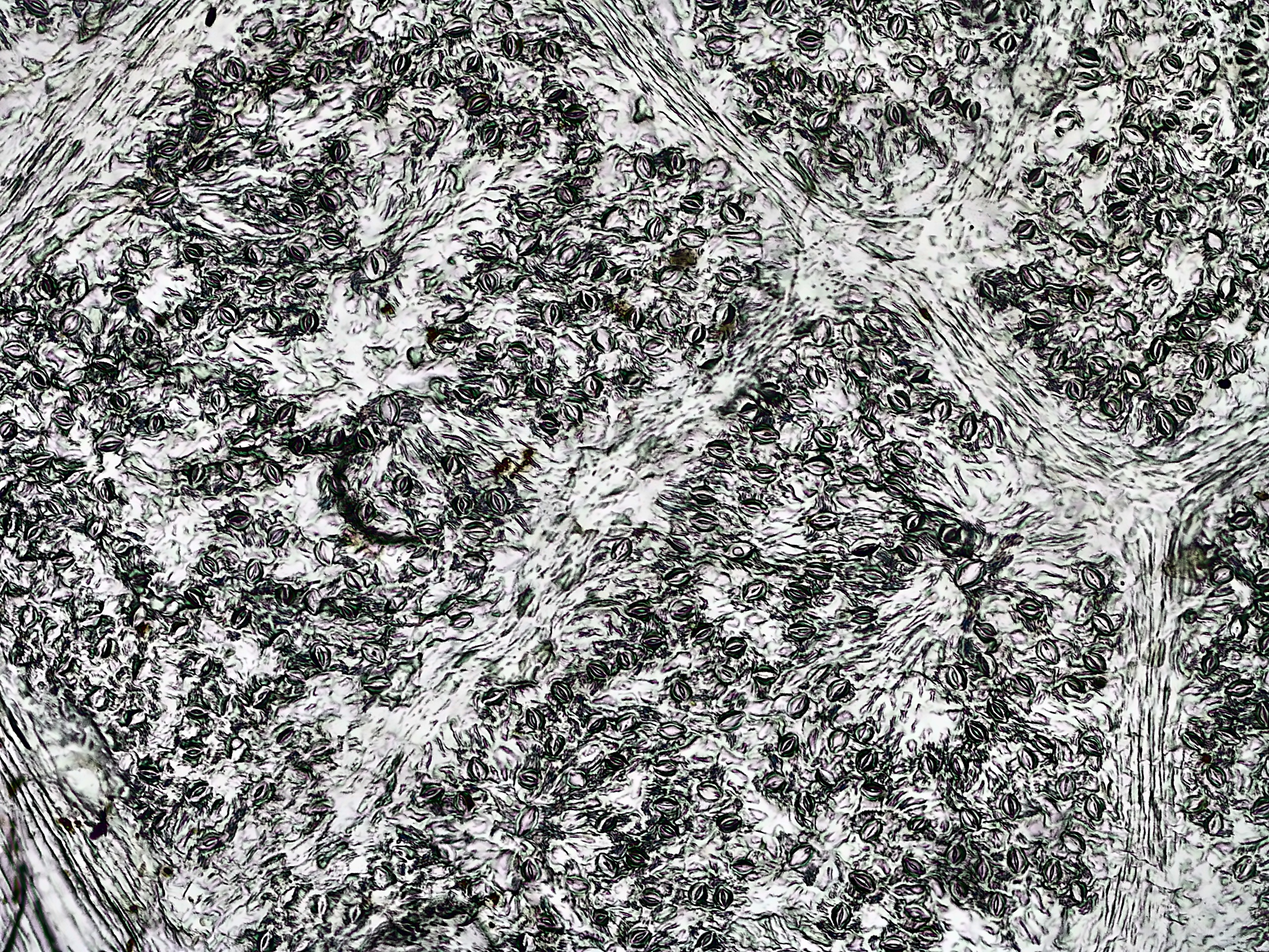stomata: (934, 524, 972, 550), (144, 181, 180, 207), (954, 560, 986, 588), (619, 305, 650, 333), (1224, 342, 1249, 375), (362, 249, 388, 280), (94, 429, 125, 455), (721, 196, 745, 228), (852, 63, 875, 96), (1019, 263, 1046, 291), (1081, 564, 1108, 592), (552, 181, 581, 207), (688, 481, 719, 505), (66, 272, 89, 304), (1128, 74, 1151, 106), (94, 634, 120, 662), (715, 262, 743, 288), (359, 639, 388, 664), (1112, 307, 1137, 336), (379, 391, 400, 425), (310, 641, 333, 672), (796, 30, 827, 53), (1037, 634, 1060, 665), (559, 239, 581, 271), (361, 672, 393, 694), (1070, 68, 1102, 90), (517, 806, 539, 838), (363, 85, 390, 111), (590, 326, 616, 353), (884, 13, 910, 40), (679, 225, 707, 250), (657, 264, 685, 289), (706, 435, 734, 460), (748, 423, 781, 444), (802, 454, 835, 475), (854, 565, 887, 586), (801, 560, 837, 579), (491, 369, 513, 400), (1016, 599, 1047, 621), (15, 602, 41, 628), (898, 508, 924, 534), (633, 153, 658, 180), (441, 16, 473, 37), (172, 304, 200, 328), (1089, 139, 1113, 167), (737, 496, 769, 517), (541, 299, 563, 329), (1119, 123, 1149, 145), (806, 360, 828, 390), (750, 461, 780, 483), (623, 366, 649, 391), (168, 620, 194, 645), (955, 41, 981, 66), (1107, 197, 1133, 222), (1143, 270, 1169, 295), (847, 357, 872, 383), (957, 805, 982, 831), (225, 507, 252, 531), (1119, 365, 1146, 389), (1233, 854, 1257, 881), (252, 134, 280, 157), (322, 472, 350, 495), (1070, 231, 1098, 254), (727, 538, 755, 561), (1000, 791, 1023, 819), (414, 114, 436, 143), (143, 408, 165, 437), (899, 55, 928, 77), (817, 69, 839, 98), (885, 99, 907, 128), (827, 144, 856, 166), (1055, 772, 1077, 801), (10, 304, 40, 325), (716, 709, 746, 730), (244, 188, 269, 213), (712, 302, 737, 327), (223, 55, 247, 81), (184, 779, 210, 803), (994, 30, 1018, 56), (898, 540, 922, 566), (1061, 674, 1087, 698), (988, 697, 1011, 724), (517, 202, 548, 222), (1024, 308, 1055, 328), (849, 536, 880, 556), (500, 32, 522, 60), (122, 246, 150, 268), (1190, 180, 1218, 202), (473, 240, 502, 261), (841, 320, 862, 349), (462, 521, 494, 540), (329, 136, 349, 166), (0, 341, 30, 361), (683, 320, 707, 345), (356, 495, 376, 525), (87, 681, 107, 711), (809, 107, 833, 132), (1197, 46, 1221, 71), (1042, 858, 1062, 888), (478, 124, 504, 147), (587, 256, 610, 282), (644, 335, 670, 358), (1051, 190, 1074, 216), (1115, 169, 1141, 192), (1171, 393, 1197, 416), (1084, 648, 1107, 674), (928, 85, 950, 112), (1060, 831, 1087, 853), (582, 372, 603, 400), (488, 488, 509, 516), (663, 565, 691, 586), (831, 901, 852, 929), (432, 333, 461, 353), (783, 582, 812, 602), (488, 0, 512, 24), (517, 232, 541, 256), (353, 428, 377, 452), (964, 719, 988, 743), (344, 568, 367, 593), (812, 425, 837, 448), (466, 757, 489, 782), (859, 818, 884, 841), (251, 19, 277, 41), (92, 352, 118, 374), (861, 414, 883, 440), (669, 598, 695, 620), (827, 676, 849, 702), (881, 477, 911, 496), (808, 511, 838, 530), (288, 171, 315, 192), (35, 272, 56, 299), (532, 371, 553, 398), (1109, 9, 1130, 36), (1192, 354, 1213, 381), (865, 313, 892, 334), (809, 320, 830, 347), (945, 664, 966, 691), (716, 811, 743, 832), (30, 364, 50, 392), (447, 609, 475, 629), (1238, 194, 1266, 214), (1205, 228, 1225, 256), (788, 621, 816, 641), (828, 728, 848, 756), (1085, 794, 1105, 822), (540, 39, 564, 62), (657, 305, 680, 329), (979, 0, 1002, 24), (930, 397, 953, 421), (789, 843, 812, 867), (317, 229, 346, 248), (786, 65, 805, 94), (1201, 648, 1220, 677), (506, 340, 531, 362), (1238, 98, 1260, 123), (1218, 273, 1240, 298), (1156, 413, 1178, 438), (551, 680, 573, 705), (517, 767, 542, 789), (596, 852, 618, 877), (850, 870, 875, 892), (274, 401, 295, 427), (691, 511, 717, 532), (778, 732, 799, 758), (19, 0, 51, 17), (536, 414, 563, 434), (842, 463, 869, 483), (1228, 511, 1255, 531), (1223, 677, 1253, 695), (654, 794, 681, 814), (110, 283, 138, 302), (233, 372, 261, 391), (263, 458, 282, 486), (441, 301, 469, 320), (406, 558, 434, 577), (467, 91, 490, 114), (1088, 354, 1111, 377), (573, 142, 595, 166), (110, 390, 132, 414), (141, 355, 165, 377), (562, 399, 584, 423), (1101, 394, 1123, 418), (788, 390, 812, 412), (1011, 671, 1035, 693), (855, 748, 877, 772), (1073, 282, 1090, 313), (654, 722, 685, 739), (878, 935, 909, 952), (392, 472, 413, 497), (453, 491, 474, 516), (127, 602, 148, 627), (887, 391, 912, 412), (351, 38, 371, 64), (222, 458, 242, 484), (86, 514, 106, 540), (1075, 48, 1101, 68), (977, 653, 997, 679), (697, 780, 723, 800), (647, 218, 666, 245), (60, 468, 87, 487), (1149, 337, 1168, 364), (987, 890, 1006, 917), (747, 667, 779, 683), (706, 39, 736, 56), (131, 660, 153, 683), (248, 781, 270, 804), (475, 271, 497, 294), (580, 288, 602, 311), (744, 579, 766, 602), (1091, 614, 1114, 636), (541, 80, 565, 101), (414, 518, 442, 536), (316, 537, 334, 565), (1216, 154, 1237, 178), (850, 606, 878, 624), (626, 599, 654, 617), (723, 635, 747, 656), (544, 732, 565, 756), (626, 926, 650, 947), (61, 309, 81, 334), (562, 103, 588, 122), (454, 384, 480, 403), (276, 722, 295, 748), (1117, 246, 1143, 265), (1068, 377, 1087, 403), (1206, 810, 1225, 836), (787, 693, 806, 719), (713, 884, 732, 910), (916, 925, 945, 942), (422, 64, 440, 91), (291, 270, 318, 288), (210, 387, 228, 414), (0, 414, 18, 441), (275, 581, 293, 608), (304, 587, 322, 614), (1213, 727, 1240, 745), (190, 152, 212, 174), (671, 681, 693, 703), (308, 61, 329, 84), (53, 549, 74, 572), (231, 606, 252, 629), (184, 588, 207, 609), (763, 770, 786, 791), (285, 27, 305, 51), (325, 12, 345, 36), (462, 50, 482, 74), (253, 276, 277, 296), (265, 526, 289, 546), (907, 363, 931, 383), (1228, 614, 1248, 638), (1208, 764, 1228, 788), (902, 855, 926, 875), (265, 60, 290, 79), (284, 201, 309, 220), (247, 242, 266, 267), (1171, 90, 1196, 109), (894, 450, 919, 469), (187, 459, 205, 485), (482, 687, 508, 705), (3, 507, 18, 538), (798, 790, 814, 819), (288, 242, 310, 263), (262, 309, 283, 331), (28, 451, 50, 472), (1191, 122, 1212, 144), (875, 345, 896, 367), (524, 708, 545, 730), (320, 190, 343, 210), (25, 522, 45, 545), (243, 559, 263, 582), (454, 791, 474, 814), (567, 768, 587, 791), (1009, 846, 1026, 873), (216, 304, 240, 323), (231, 434, 255, 453), (136, 762, 160, 781), (474, 342, 498, 361), (326, 424, 345, 448), (193, 653, 212, 677), (1141, 0, 1165, 19), (1012, 219, 1036, 238), (731, 856, 755, 875), (679, 195, 704, 213), (764, 0, 789, 18), (1192, 299, 1217, 317), (905, 904, 933, 920), (53, 408, 74, 429), (1162, 55, 1183, 76), (1056, 110, 1077, 131), (199, 556, 219, 578), (975, 620, 997, 640), (596, 812, 616, 834), (521, 858, 541, 880), (97, 480, 116, 503), (613, 538, 632, 561), (1182, 730, 1205, 749), (420, 781, 443, 800), (1155, 208, 1170, 237), (300, 310, 318, 334), (240, 399, 258, 423), (461, 553, 488, 569), (313, 890, 329, 917), (346, 900, 364, 924), (1182, 794, 1206, 812), (622, 848, 649, 864), (859, 783, 886, 799), (566, 875, 590, 893), (71, 384, 91, 405), (338, 602, 359, 622), (1180, 319, 1200, 340), (518, 118, 540, 137), (130, 324, 149, 346), (668, 151, 687, 173), (1153, 172, 1172, 194), (390, 52, 408, 75), (193, 73, 216, 91), (959, 412, 977, 435), (155, 139, 179, 156), (949, 752, 966, 776), (1051, 346, 1066, 373), (190, 111, 215, 127), (751, 108, 776, 124), (1178, 12, 1198, 32), (1235, 256, 1260, 272), (854, 721, 874, 741), (920, 752, 936, 777), (1084, 733, 1105, 752), (1213, 566, 1234, 585), (692, 622, 713, 641), (690, 0, 723, 12), (752, 73, 770, 95), (740, 401, 762, 419), (587, 662, 609, 680), (616, 712, 634, 734), (198, 836, 221, 853), (654, 758, 677, 775), (638, 888, 661, 905), (372, 865, 387, 891), (1070, 879, 1086, 903), (289, 436, 308, 456), (1026, 168, 1045, 188), (1251, 796, 1269, 817), (659, 821, 680, 839), (695, 931, 716, 949), (186, 703, 208, 720), (689, 882, 706, 904), (950, 877, 967, 899), (1234, 45, 1257, 61), (980, 277, 996, 300), (1251, 142, 1265, 168), (976, 857, 990, 883), (204, 269, 223, 288), (817, 767, 836, 786), (1032, 736, 1056, 751), (46, 496, 63, 517), (1019, 749, 1036, 770), (618, 649, 635, 670), (587, 712, 604, 733), (182, 744, 204, 760), (948, 842, 964, 864), (941, 0, 966, 14), (180, 242, 199, 260), (410, 22, 427, 42), (1161, 113, 1181, 130), (308, 742, 329, 758), (254, 930, 270, 951), (1257, 700, 1269, 728), (642, 633, 664, 648), (386, 595, 404, 613), (908, 815, 928, 831), (593, 908, 610, 926), (607, 753, 627, 768), (716, 666, 735, 681), (1255, 568, 1269, 588), (1257, 300, 1269, 323), (1254, 596, 1269, 614), (444, 453, 458, 472), (1246, 18, 1265, 32), (849, 0, 869, 13), (538, 915, 557, 928), (969, 100, 981, 120), (1260, 632, 1269, 653)
